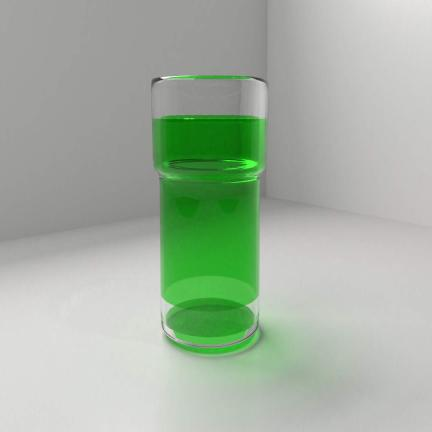container: (151, 76, 268, 354)
fluid: (153, 119, 268, 351)
fluid-surface: (153, 112, 268, 122)
